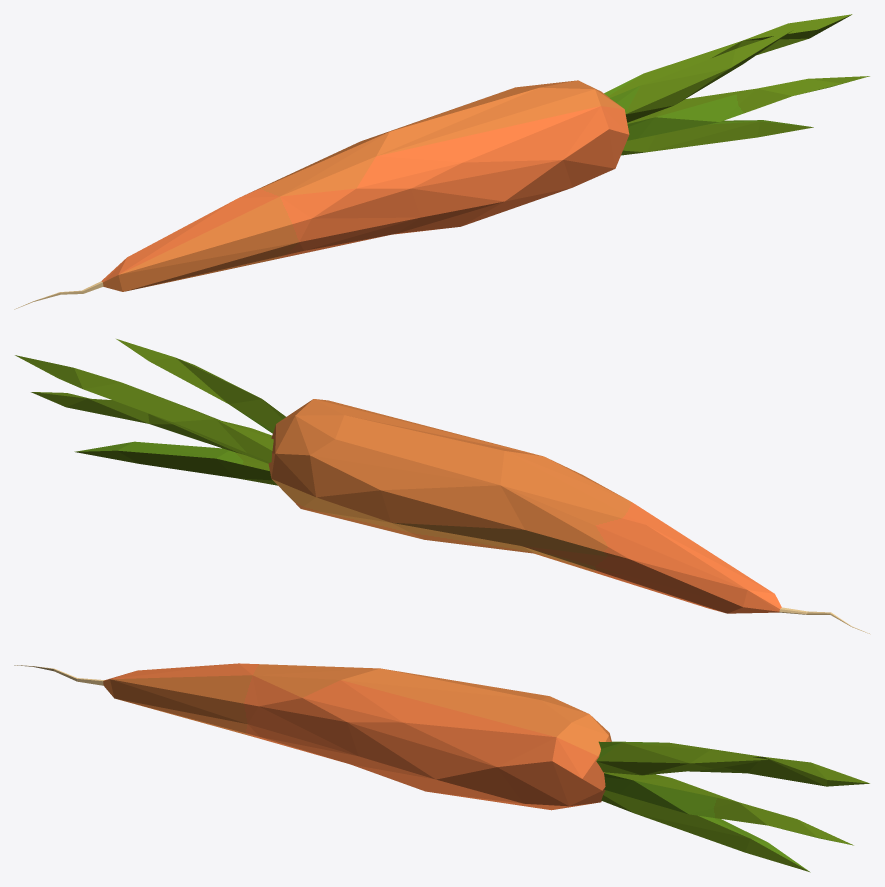
Rendered from carrot.glb.
3 views of the same model, one above another, from view 1: azimuth 30°, elevation 25°; view 2: azimuth 150°, elevation 25°; view 3: azimuth 330°, elevation 25° (orthographic).
Visible parts, largest first — view 1: world; view 2: world; view 3: world.
Boxes of the visible parts, x1=… form: world: x1=14, y1=14, x2=869, y2=309; world: x1=15, y1=339, x2=870, y2=634; world: x1=14, y1=663, x2=869, y2=872.
Size of the model in its own units: 0.2567 by 0.0327 by 0.0328.
Materials: 1 (1 with a texture image).
